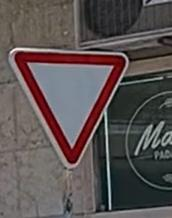cedencia de passagem: (4, 36, 133, 179)
